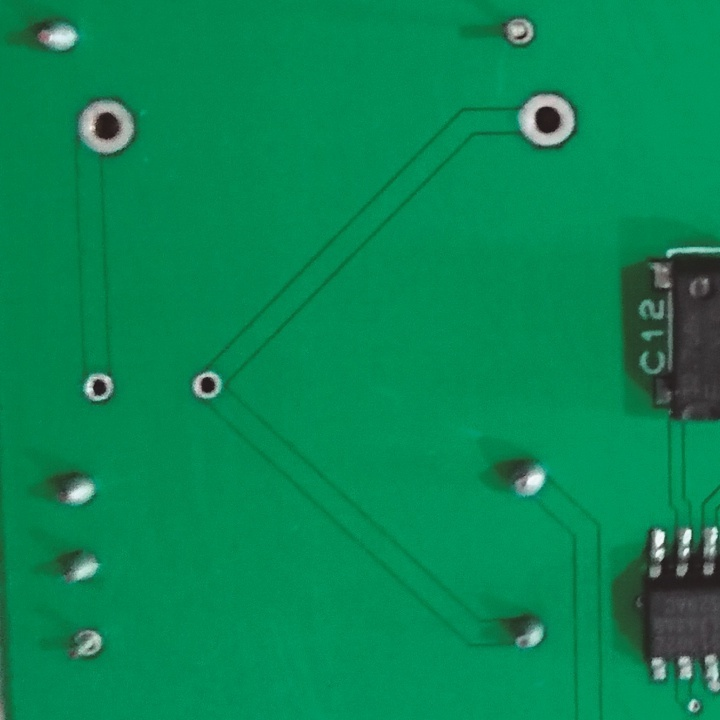F: (515, 87, 584, 151), (73, 95, 142, 156), (65, 623, 106, 670), (495, 12, 539, 52), (79, 371, 119, 406), (188, 371, 227, 402)
